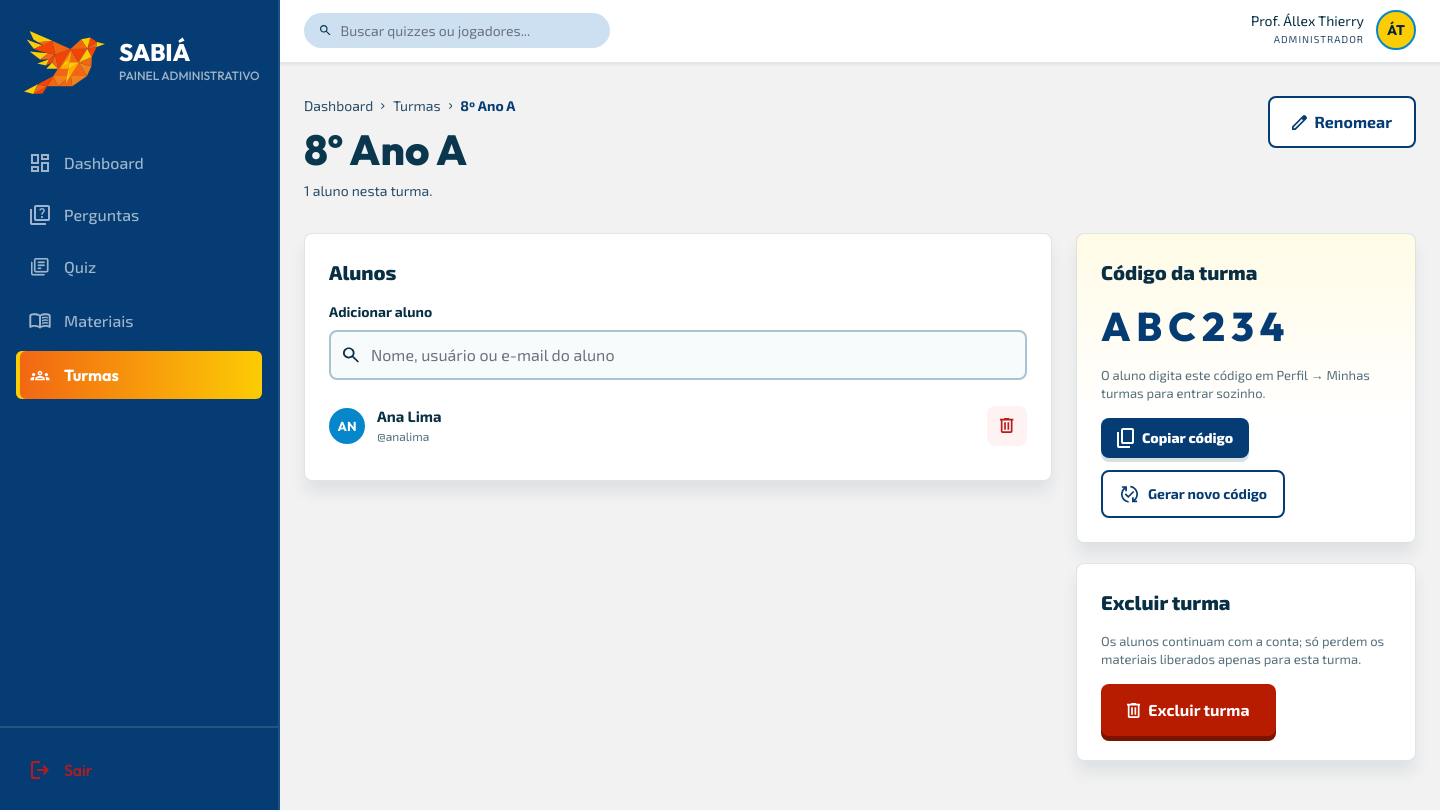
Test: Turmas › busca, adiciona e tira alunos
The width and height of the screenshot is (1440, 810).
Expected: the text "ABC234" is shown, left=1101, top=301, right=1290, bottom=351
Type "be" into the search field labelled "Adicionar aluno" at [678, 355], box left=329, top=330, right=1027, bottom=380
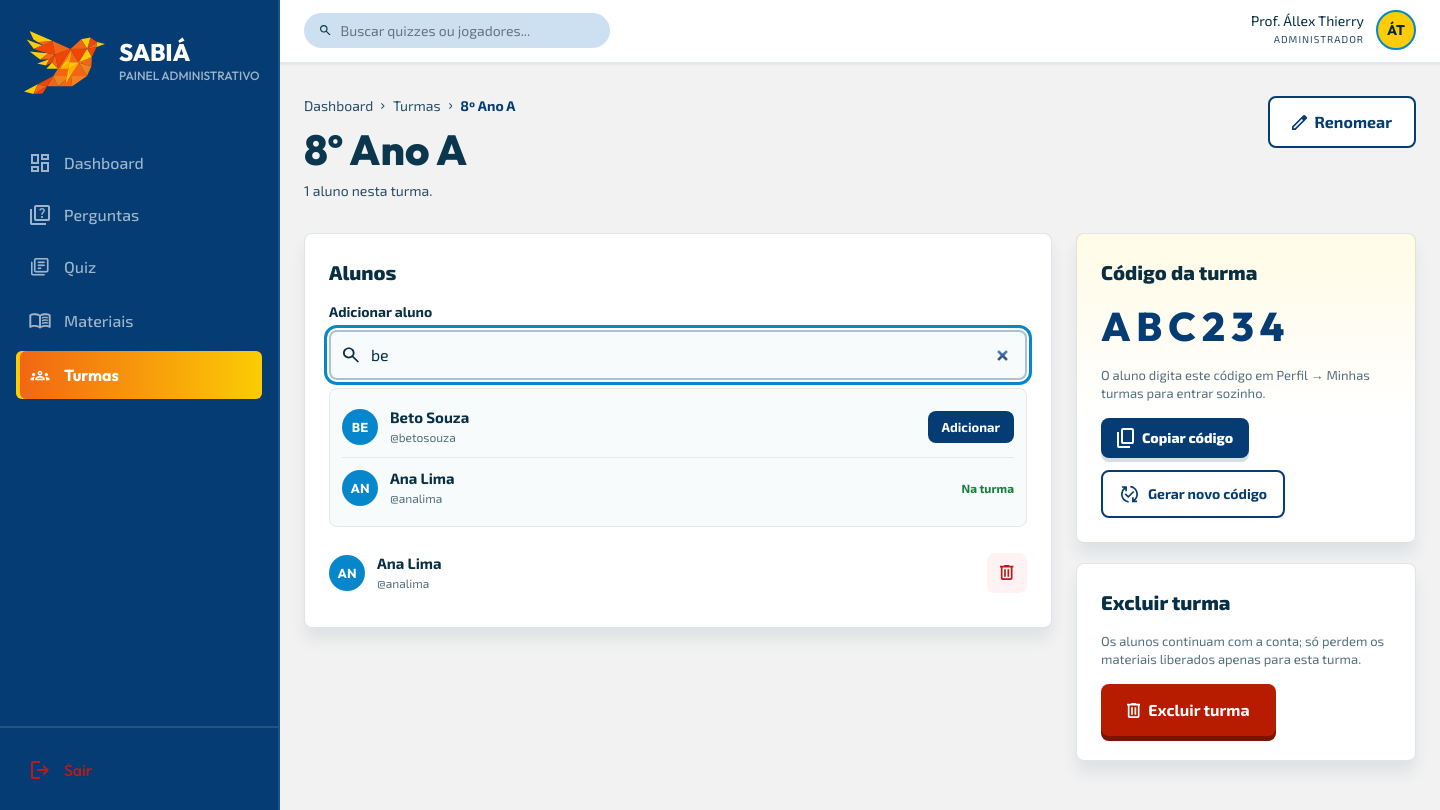
Now the text "Na turma" is shown, box left=962, top=481, right=1014, bottom=495
Click the button with aria-label "Adicionar Beto Souza" at [971, 427], box left=928, top=411, right=1014, bottom=443
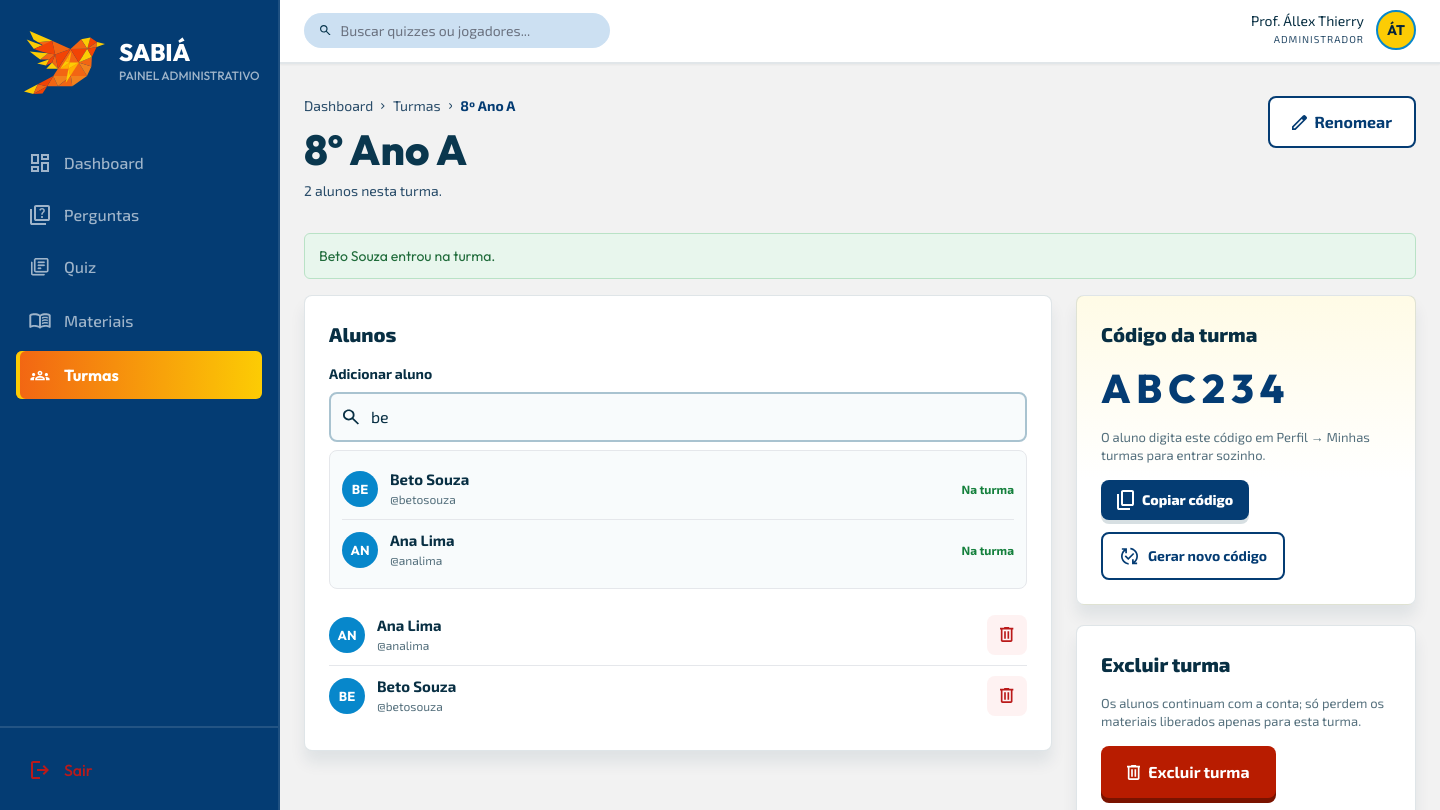
Now the text "Beto Souza entrou na turma." is shown, box left=304, top=233, right=1416, bottom=279
Click the button named "Tirar Ana Lima da turma" at [1007, 635], box left=987, top=615, right=1027, bottom=655
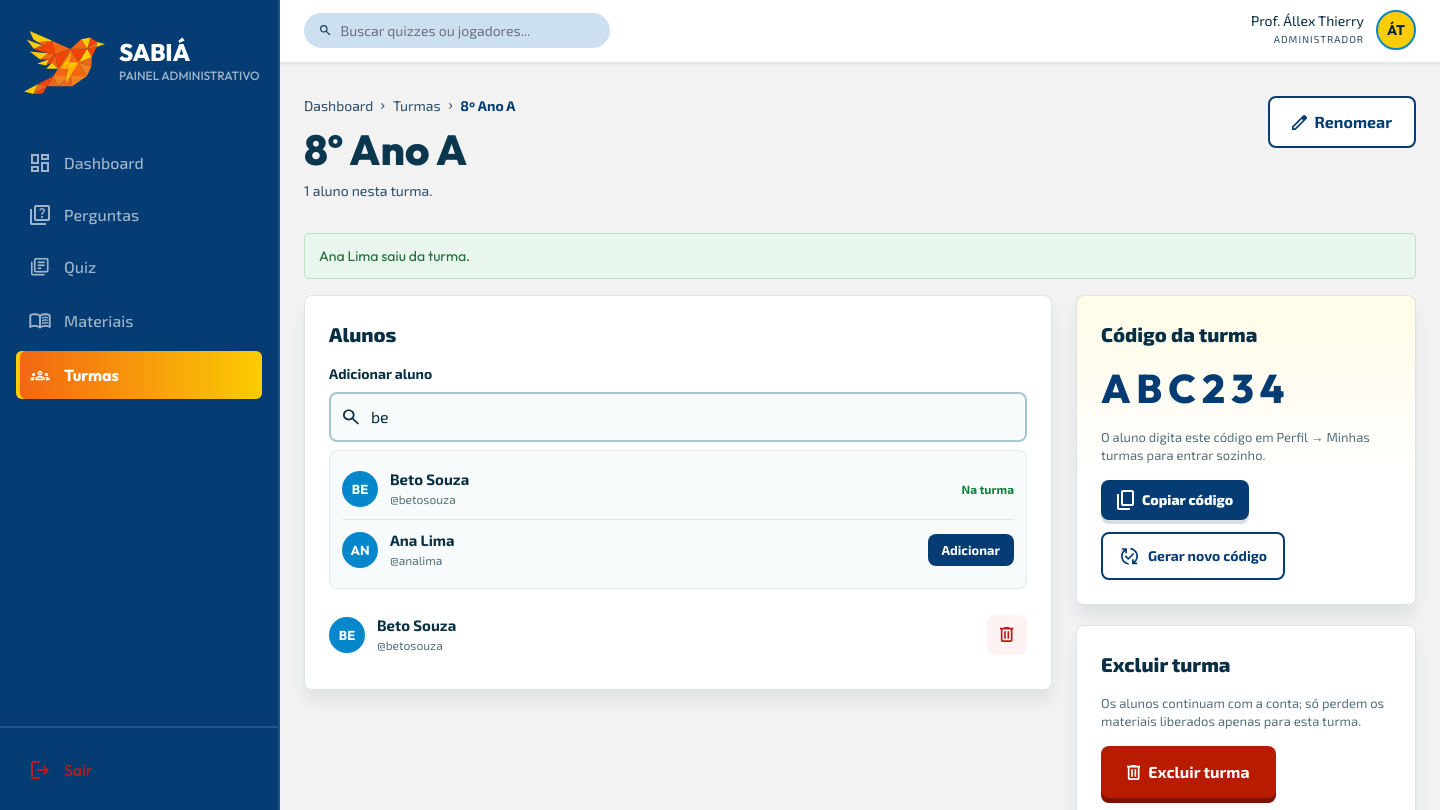
Now the text "Ana Lima saiu da turma." is shown, box left=304, top=233, right=1416, bottom=279
